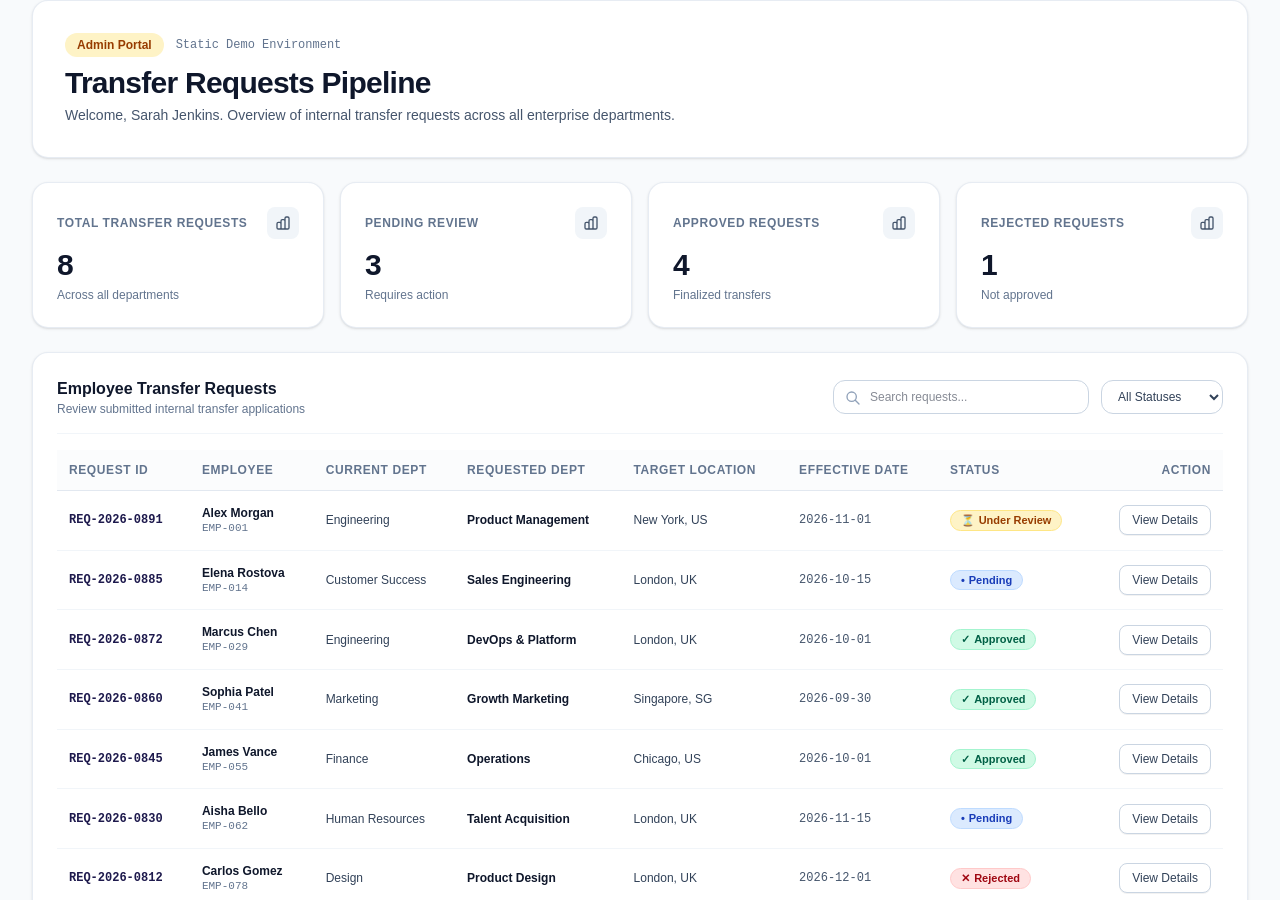
P2-T05: AdminDashboard component › filters request records by status filter dropdown
The image size is (1280, 900).
Step 1. Select "Rejected" in the dropdown named "filter by status" → (1162, 397), box [1101,380,1223,414]
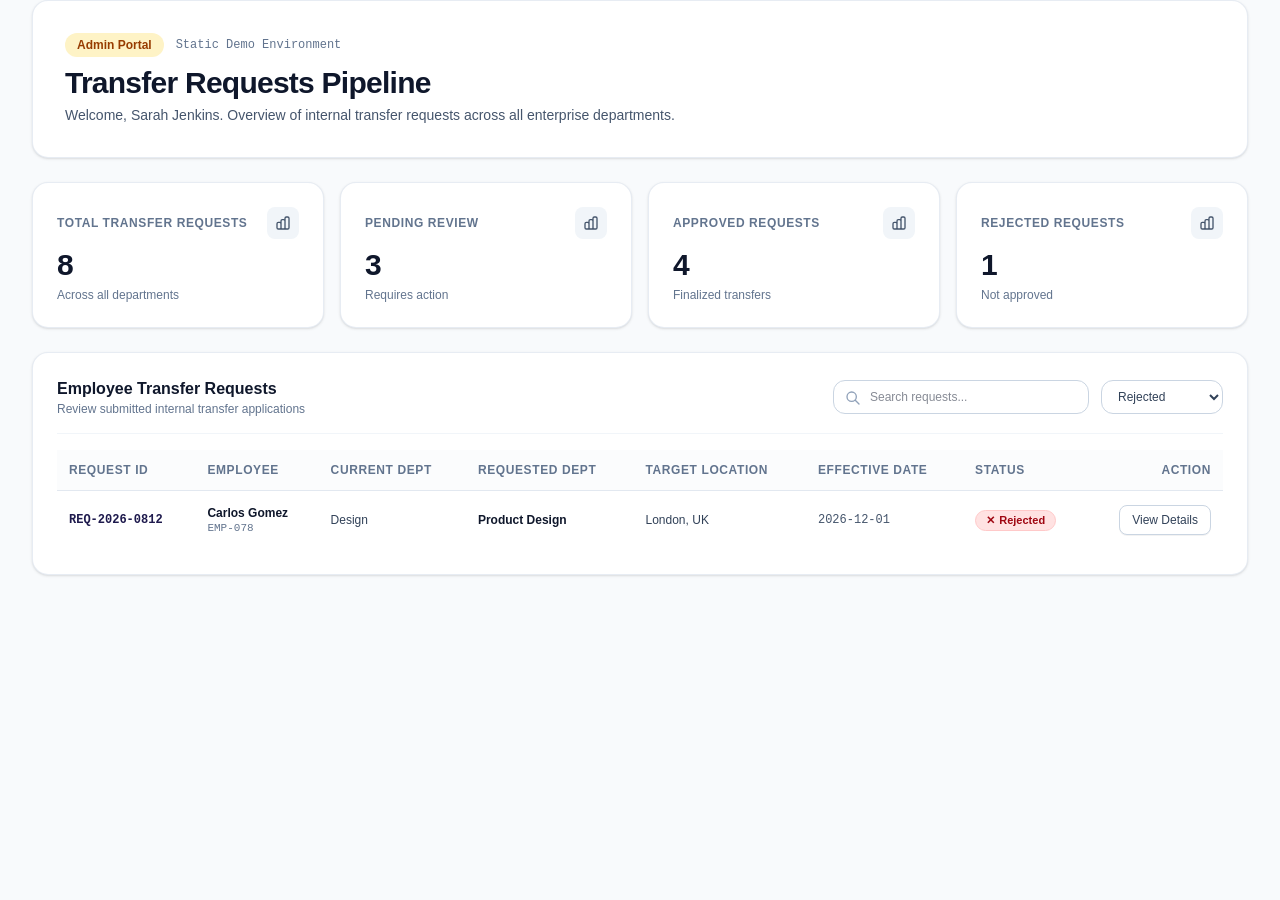
Expected: the text "Carlos Gomez" is shown, [207,506,288,520]
Now the text "Elena Rostova" is gone
